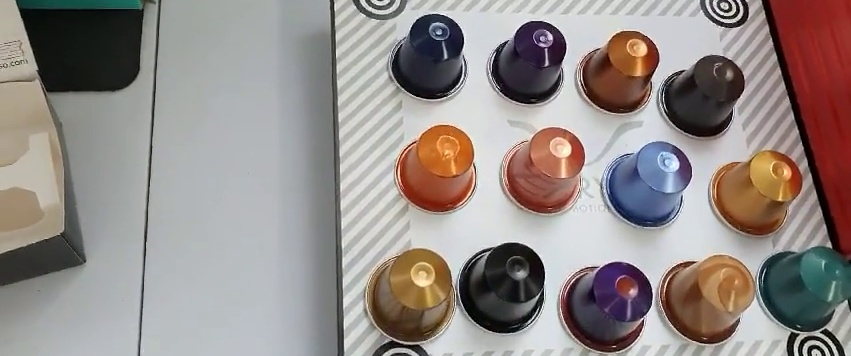capsule_1: (387, 14, 469, 102)
capsule_10: (457, 248, 548, 333)
capsule_11: (560, 263, 651, 352)
capsule_12: (655, 254, 752, 343)
capsule_13: (755, 250, 849, 335)
capsule_2: (490, 19, 571, 103)
capsule_3: (576, 28, 659, 116)
capsule_4: (657, 51, 748, 141)
capsule_5: (392, 125, 477, 212)
capsule_6: (499, 127, 584, 218)
capsule_7: (602, 140, 690, 228)
capsule_8: (712, 151, 802, 237)
capsule_9: (362, 250, 453, 345)
